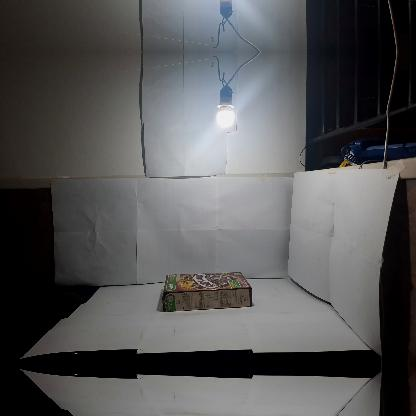Koko-Krunch: (162, 272, 252, 312)
